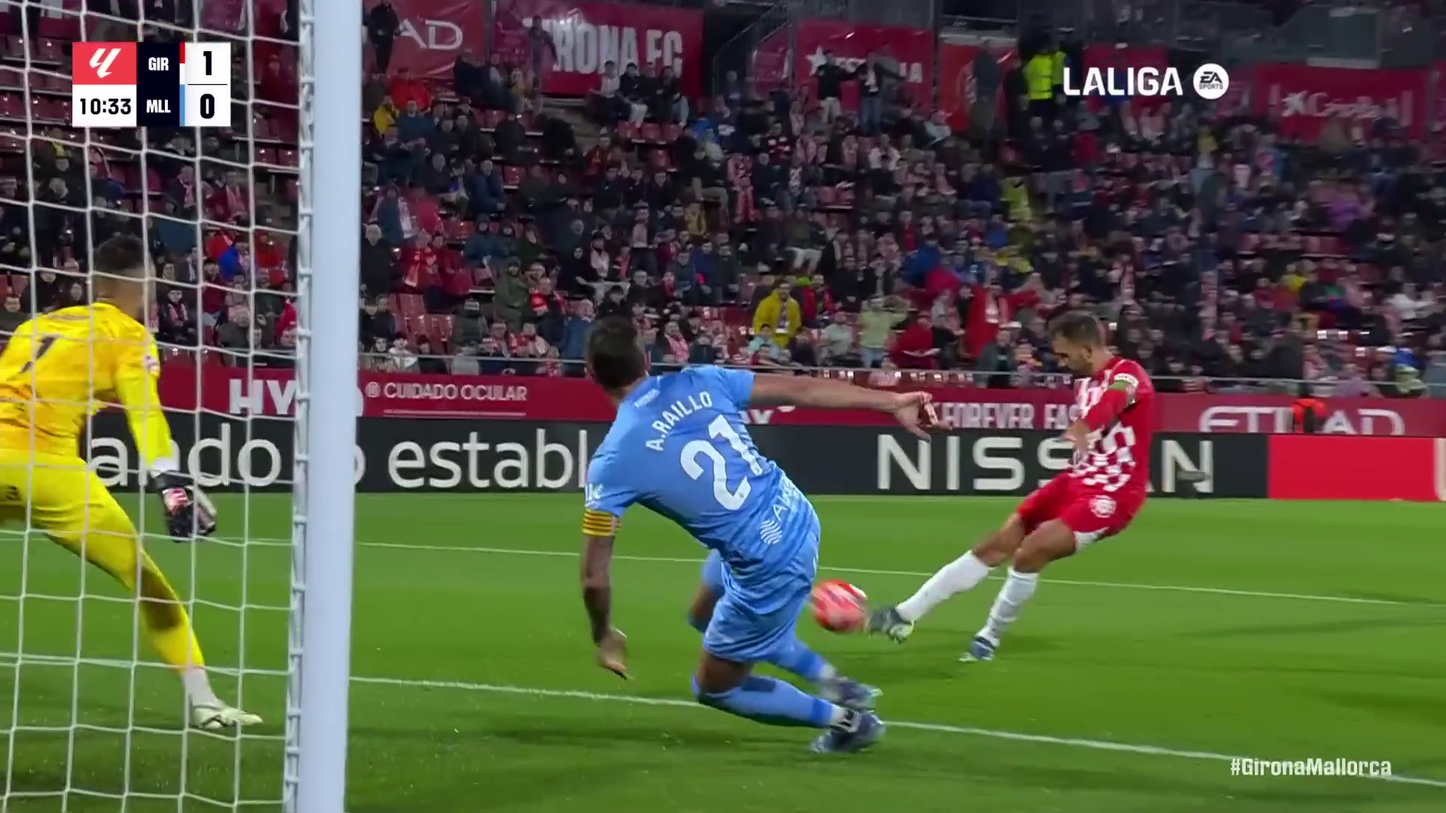ball: (815, 573, 870, 640)
player: (578, 309, 941, 755), (0, 232, 259, 732), (872, 308, 1177, 661)
